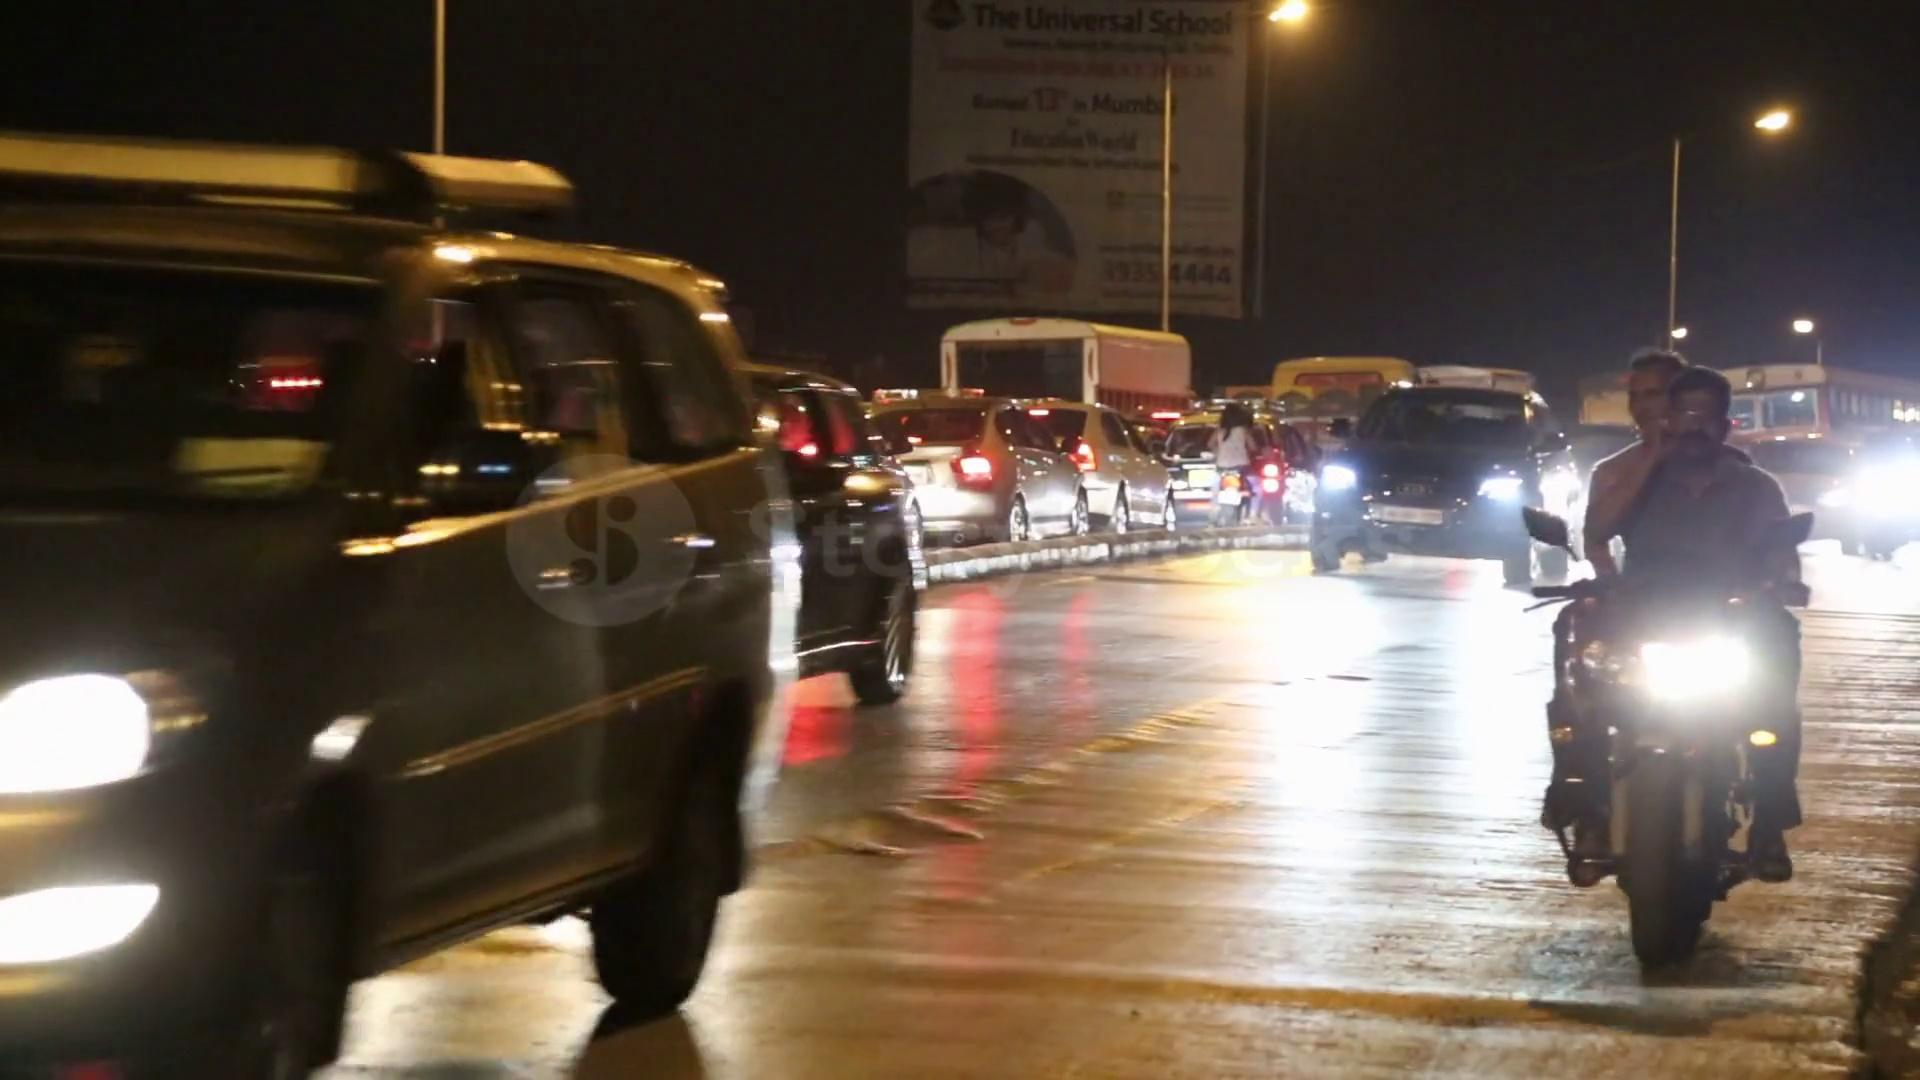rider: (1550, 362, 1809, 883), (1206, 406, 1256, 533)
without_helmate: (1656, 366, 1741, 467)
